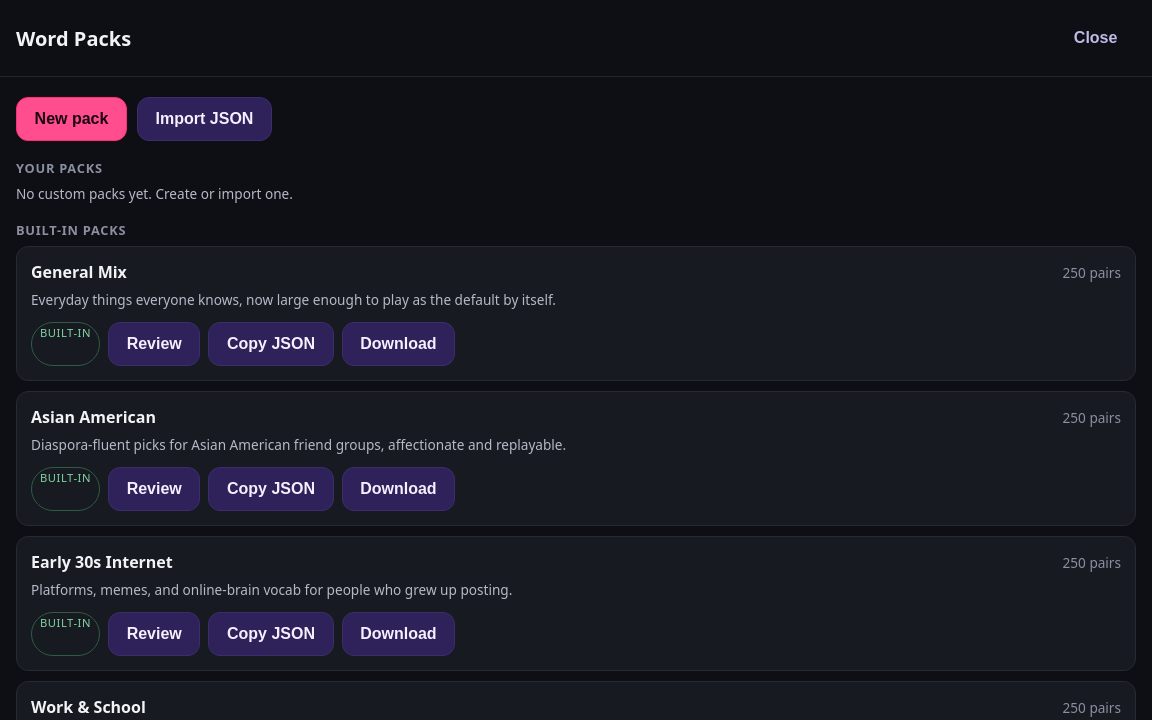
Test case: PackEditor import › shows readable errors for bad JSON
Click the button "Import JSON" at (204, 119), box x1=137 y1=97 x2=272 y2=141
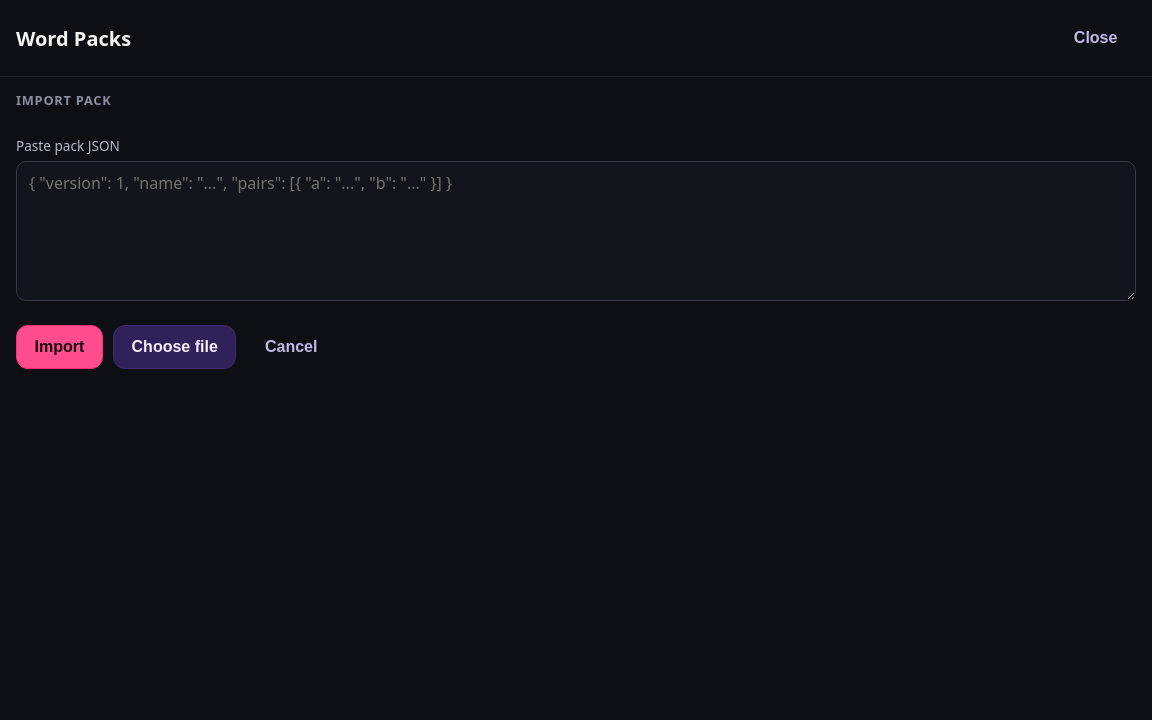
Click the text box labelled "Paste pack JSON" at (576, 231), box x1=16 y1=161 x2=1136 y2=301
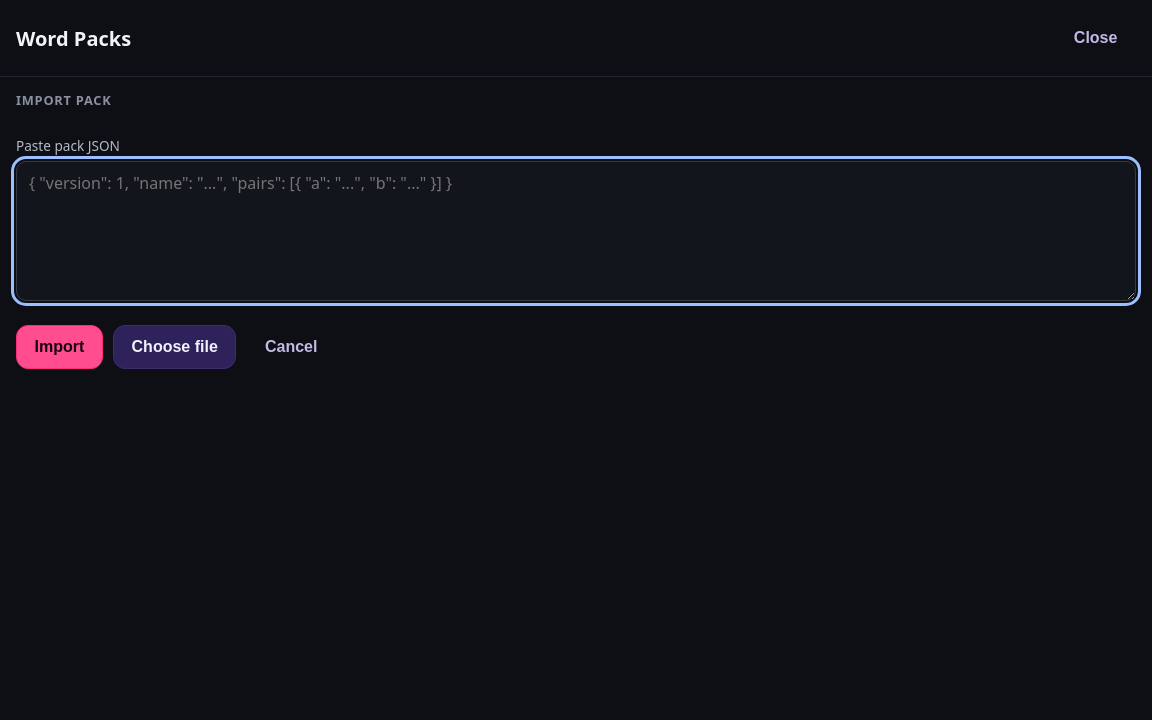
Type keys "{ not json"
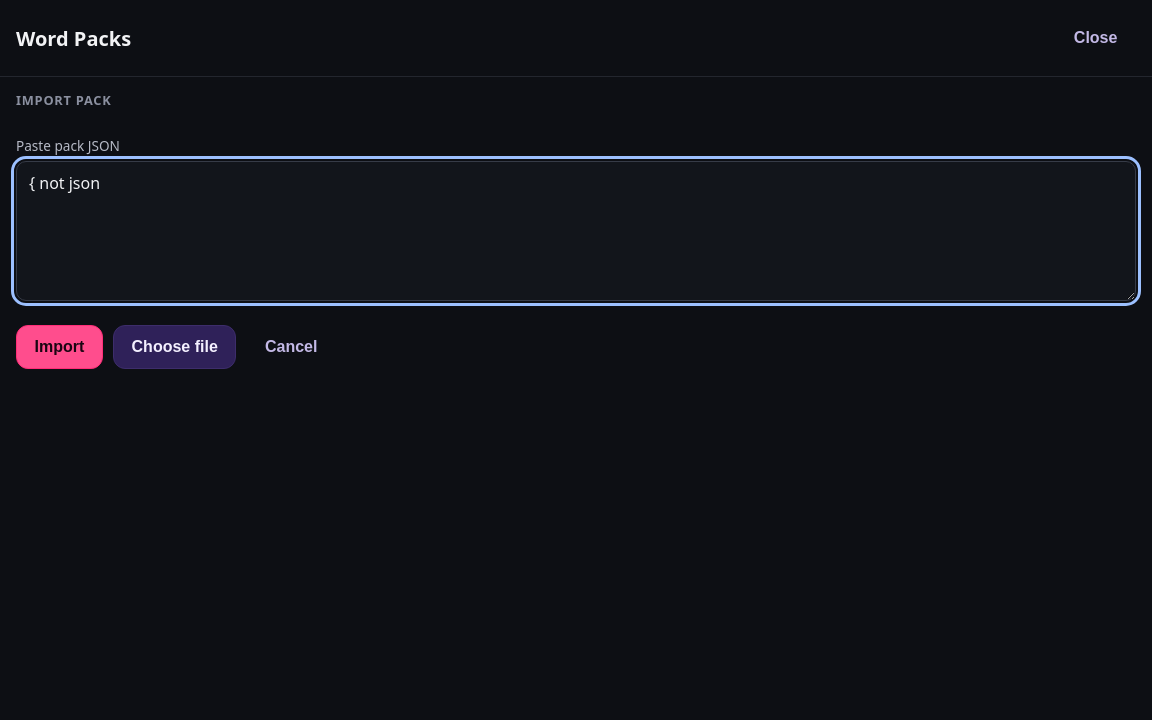
Click the button "Import" at (60, 347), box x1=16 y1=325 x2=103 y2=369
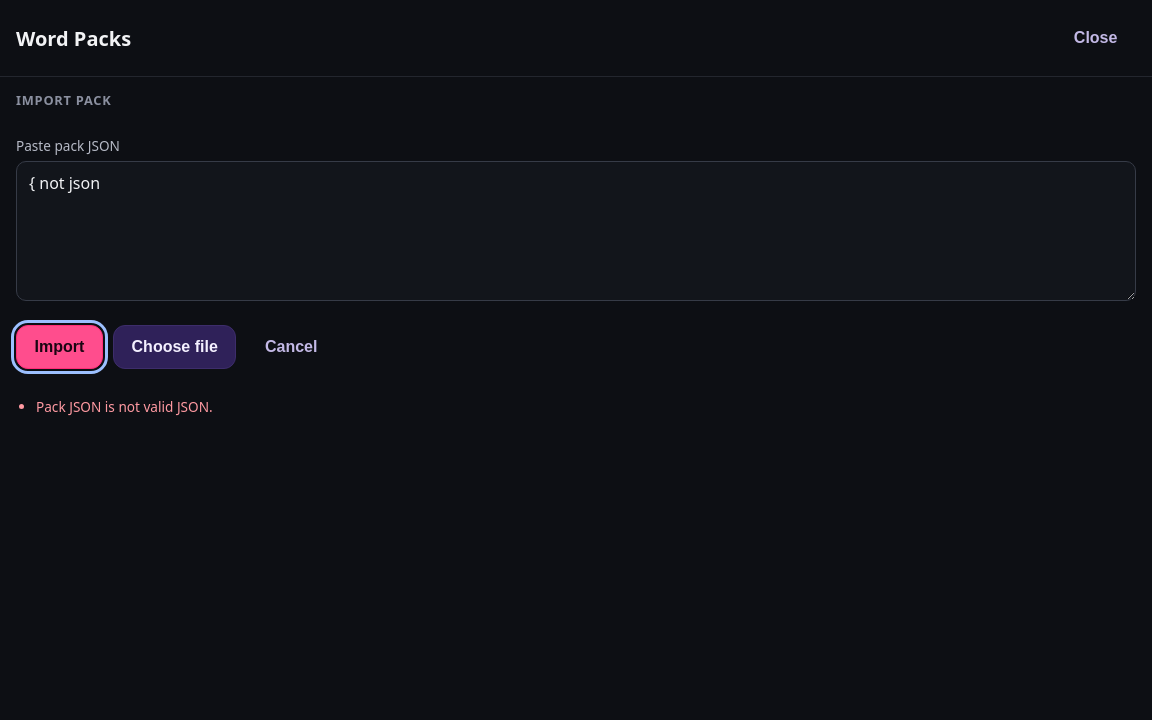
expect the list item "Pack JSON is not valid JSON." is shown: met, box x1=36 y1=397 x2=213 y2=416
